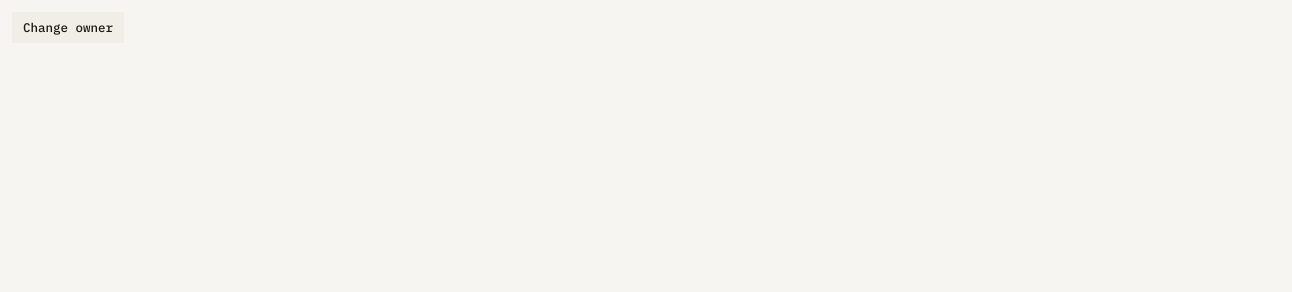
Test: the armed confirmation › names the new owner
Click the button "Change owner". click: x=68, y=27
box: left=12, top=12, right=124, bottom=43
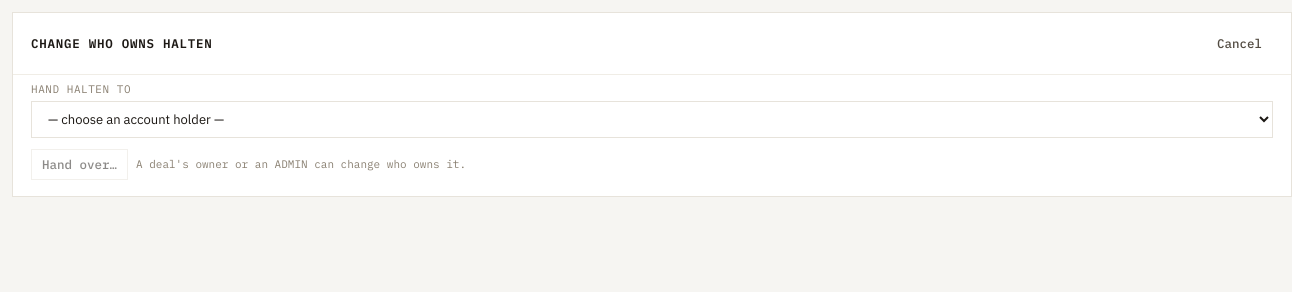
Select "Pilot Partner" in the dropdown labelled "Hand Halten to". click: x=652, y=120
box: left=31, top=101, right=1273, bottom=138
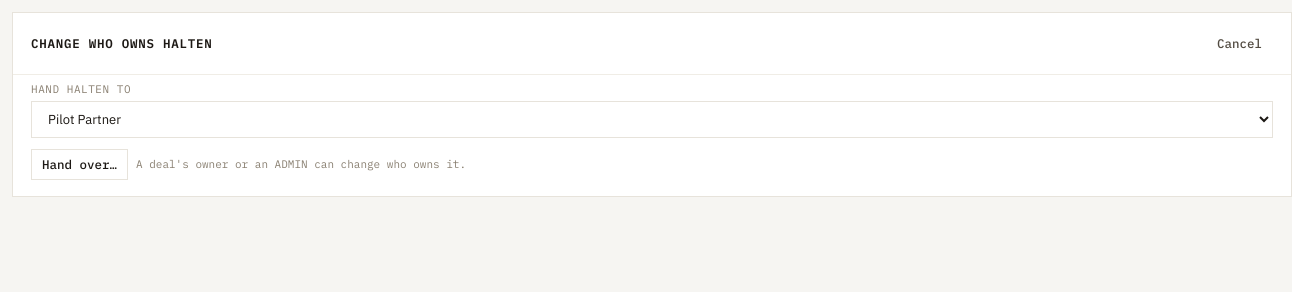
Click the button "Hand over…". click: x=80, y=165
box: left=31, top=149, right=128, bottom=180
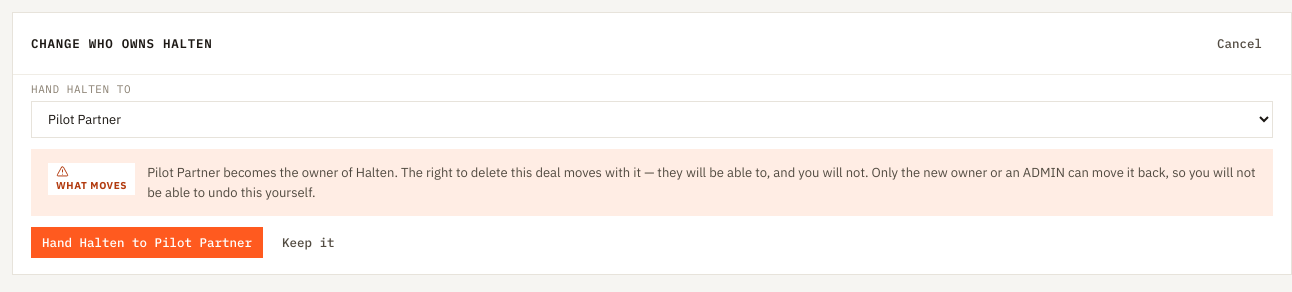
Check: the button "Hand Halten to Pilot Partner" is shown, box left=31, top=227, right=263, bottom=258
